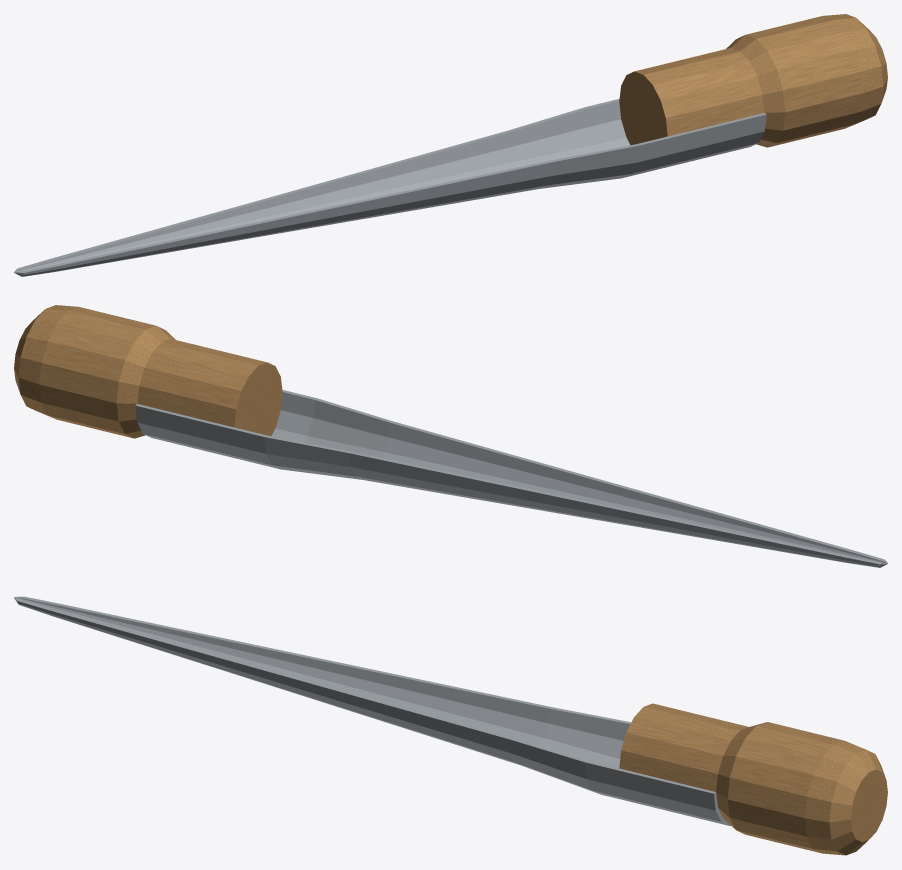
3 renders of one model, top to bottom at view 1: azimuth 30°, elevation 25°; view 2: azimuth 150°, elevation 25°; view 3: azimuth 330°, elevation 25°, orthographic.
Parts seen in each view (by area): view 1: NEW669_StainlessChannel, NEW669_WoodenHandle; view 2: NEW669_StainlessChannel, NEW669_WoodenHandle; view 3: NEW669_StainlessChannel, NEW669_WoodenHandle.
Boxes of the visible parts, x1,y1,x2,y2 form: NEW669_StainlessChannel: [14, 99, 766, 276]; NEW669_WoodenHandle: [619, 14, 887, 147]; NEW669_StainlessChannel: [135, 390, 887, 567]; NEW669_WoodenHandle: [14, 305, 282, 438]; NEW669_StainlessChannel: [14, 596, 730, 825]; NEW669_WoodenHandle: [619, 703, 887, 855].
Bounding box in the file's own units: 0.265 × 0.031 × 0.031.
2 materials, 1 textured.
